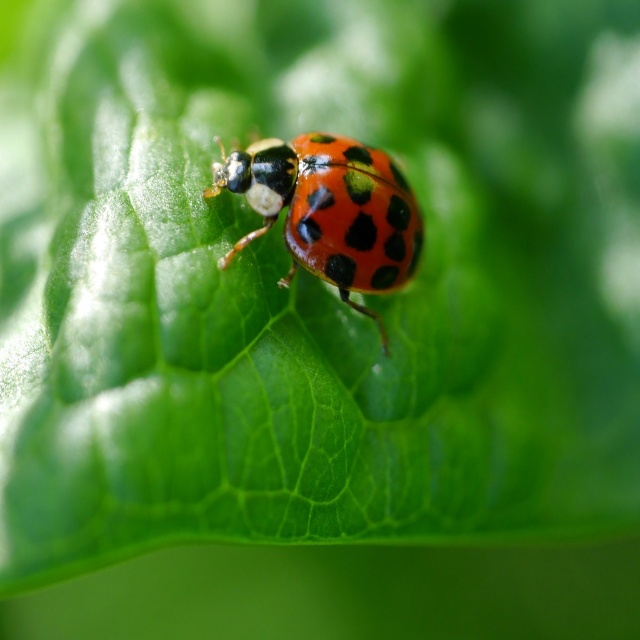Ladybug: (204, 128, 425, 351)
